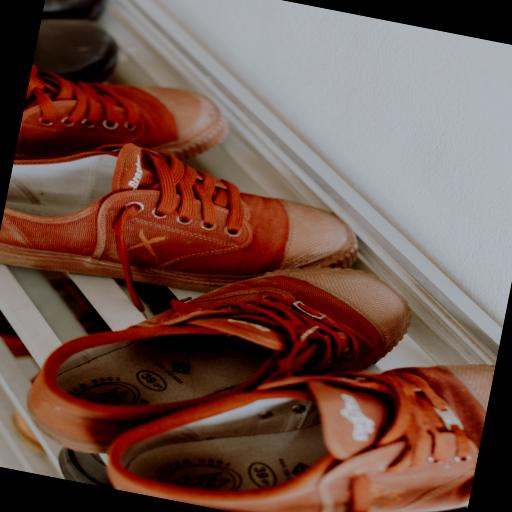shoe: (28, 268, 409, 453), (0, 144, 357, 309), (108, 366, 494, 511), (15, 66, 228, 159), (33, 19, 117, 82), (59, 448, 112, 488), (42, 0, 106, 20)
